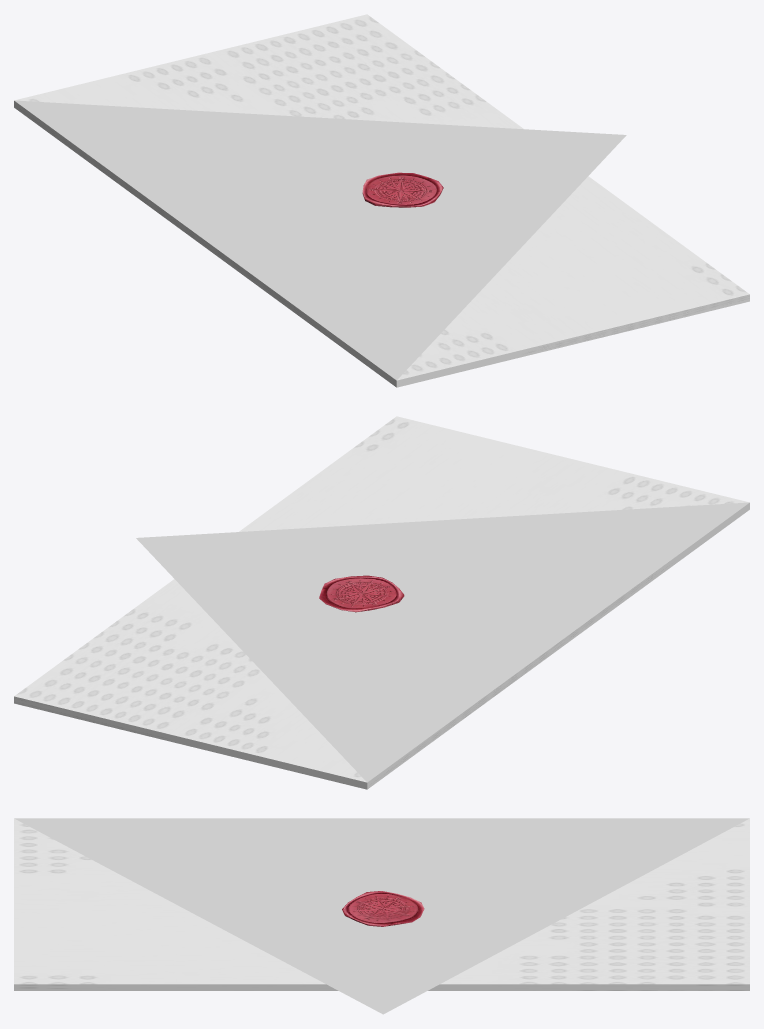
The model's file is Letter.glb.
3 views of the same model, one above another, from view 1: azimuth 30°, elevation 25°; view 2: azimuth 150°, elevation 25°; view 3: azimuth 270°, elevation 25° (orthographic). The views are drawn at different scales.
Visible parts, largest first — view 1: Cube.025, Cube.024; view 2: Cube.025, Cube.024; view 3: Cube.025, Cube.024.
Part boxes in pixels (x1,y1,x2,y2): Cube.025: [14, 100, 626, 380]; Cube.024: [14, 14, 749, 387]; Cube.025: [136, 502, 749, 782]; Cube.024: [14, 416, 749, 789]; Cube.025: [14, 818, 749, 1014]; Cube.024: [14, 818, 749, 990].
Bounding box in the file's own units: 0.4029 × 0.00878 × 0.6325.
Materials: 2 (2 with a texture image).
